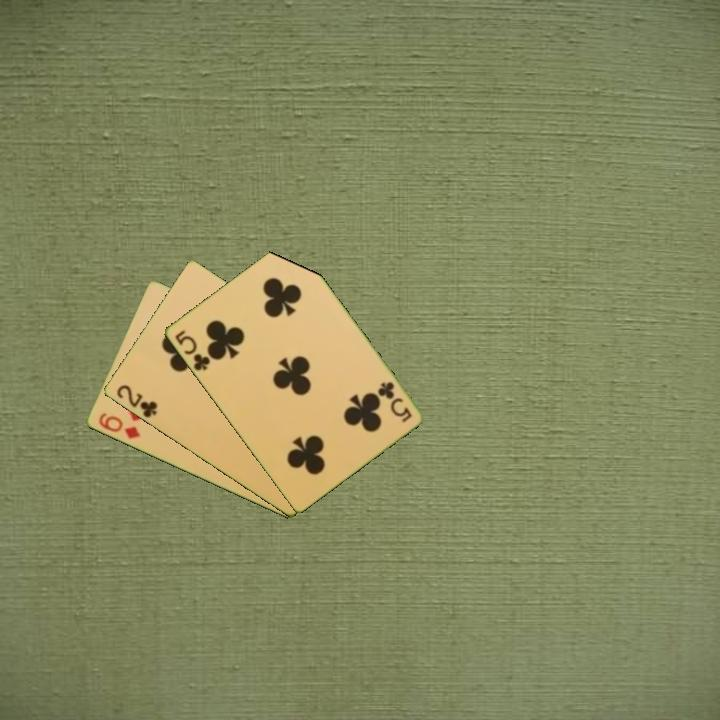2c: (113, 381, 160, 421)
5c: (171, 326, 213, 374), (374, 378, 415, 426)
6d: (95, 410, 143, 442)
